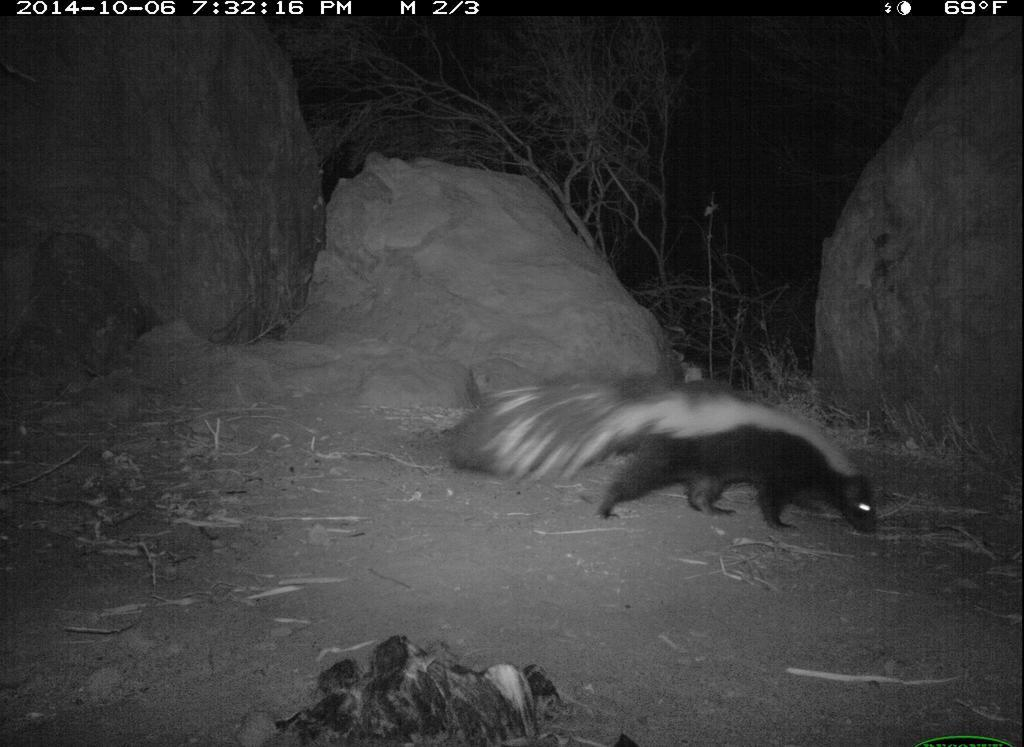skunk: (454, 370, 884, 542)
